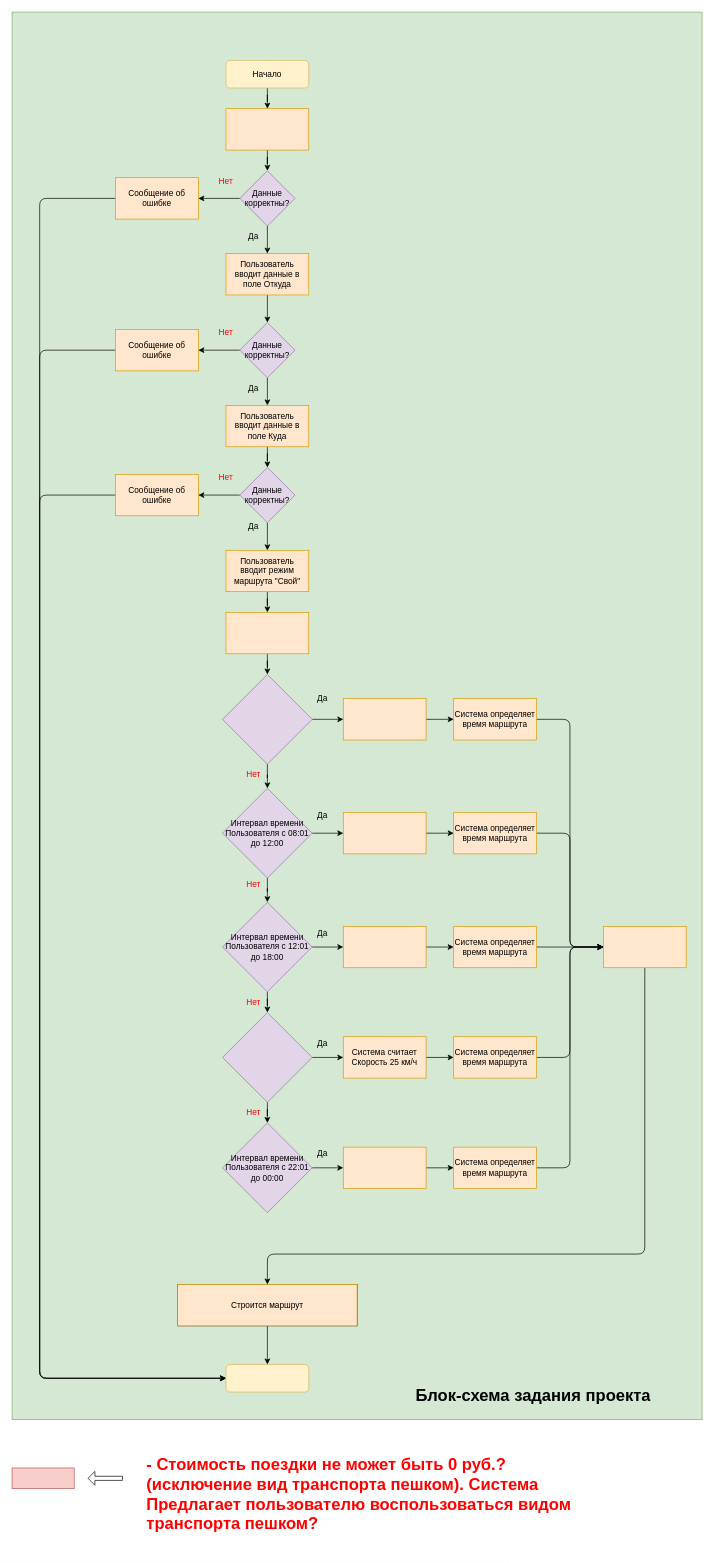
Image size: 714x1563. Some labels were removed from this diagram. The centre of each missing label's shape, as x and y in pixels:
Интервал времени Пользователя с 00:01 до 08:00?: point 267,719
Интервал времени Пользователя с 18:01 до 22:00: point 267,1057
Конец: point 267,1378
Пользователь ввел время начала поездки: point 267,129
Пользователь выбирает вид транспорта "Такси": point 267,633
Система выставляет Стоимость 11 р/км: point 644,947
Система считает Скорость 35 км/ч: point 384,833
Система считает Скорость 40 км/ч: point 384,947
Система считает Скорость 45 км/ч: point 384,1167
Система считает Скорость 50 км/ч: point 384,719
